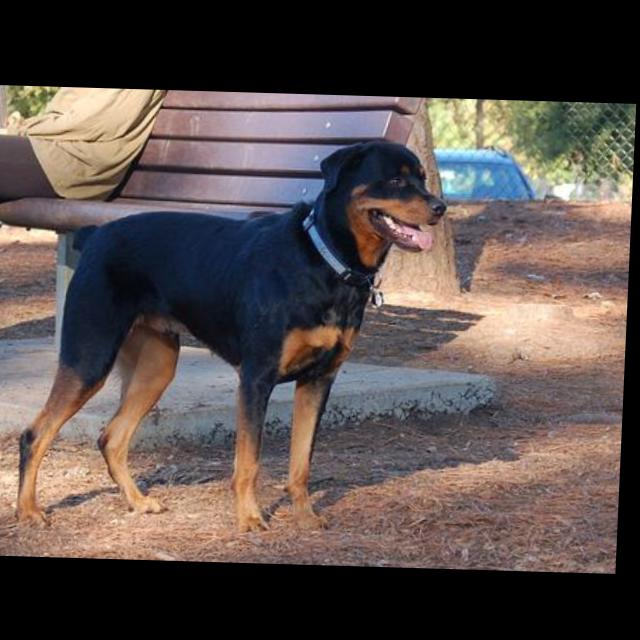rottweiler: (18, 128, 452, 541)
